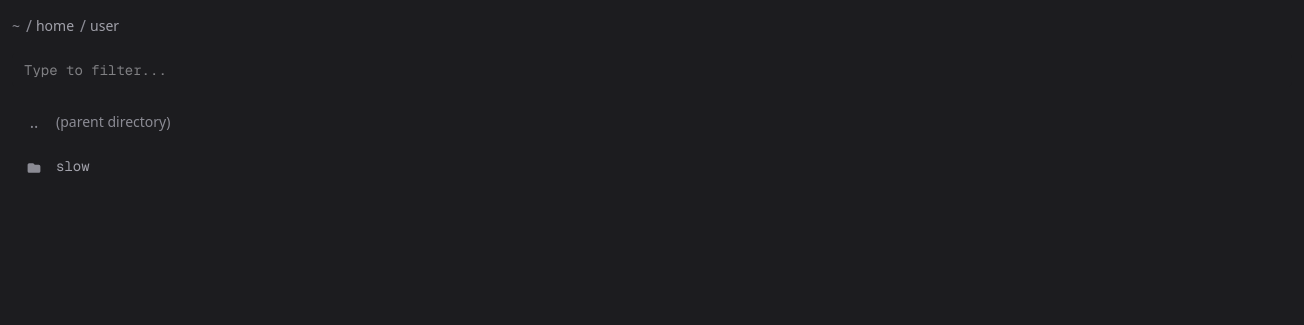
Test: DirectoryBrowser › ignores stale browse responses after a newer navigation finishes
The image size is (1304, 325).
Step 1. Click the option "slow" → (73, 166), box [12,144,1292,188]
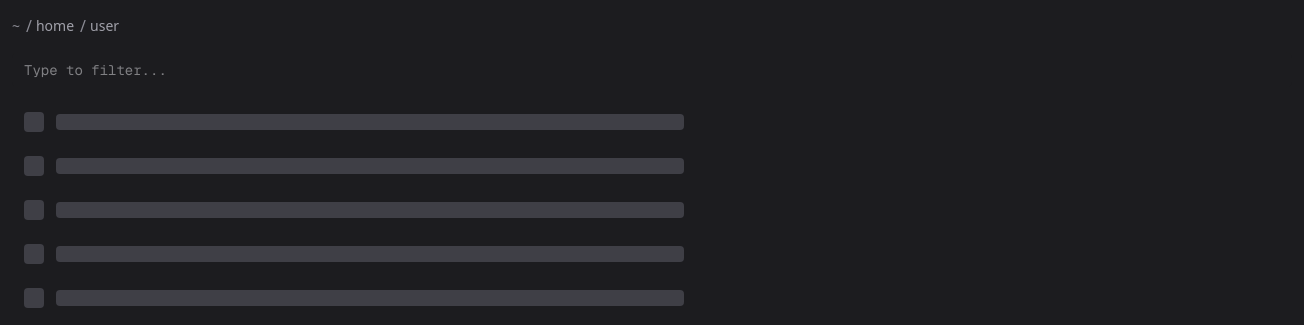
Step 2. Click the button "user" → (104, 26), box [90,16,119,36]
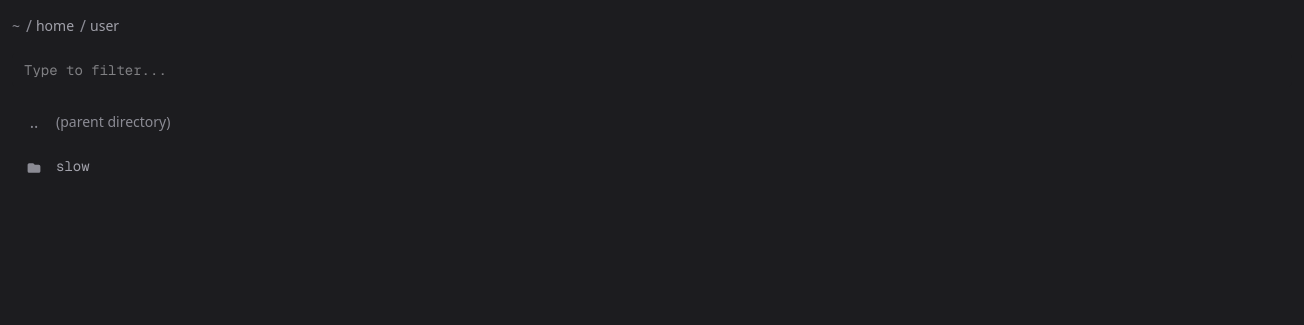
Expected: the option "slow" is shown, [12,144,1292,188]
